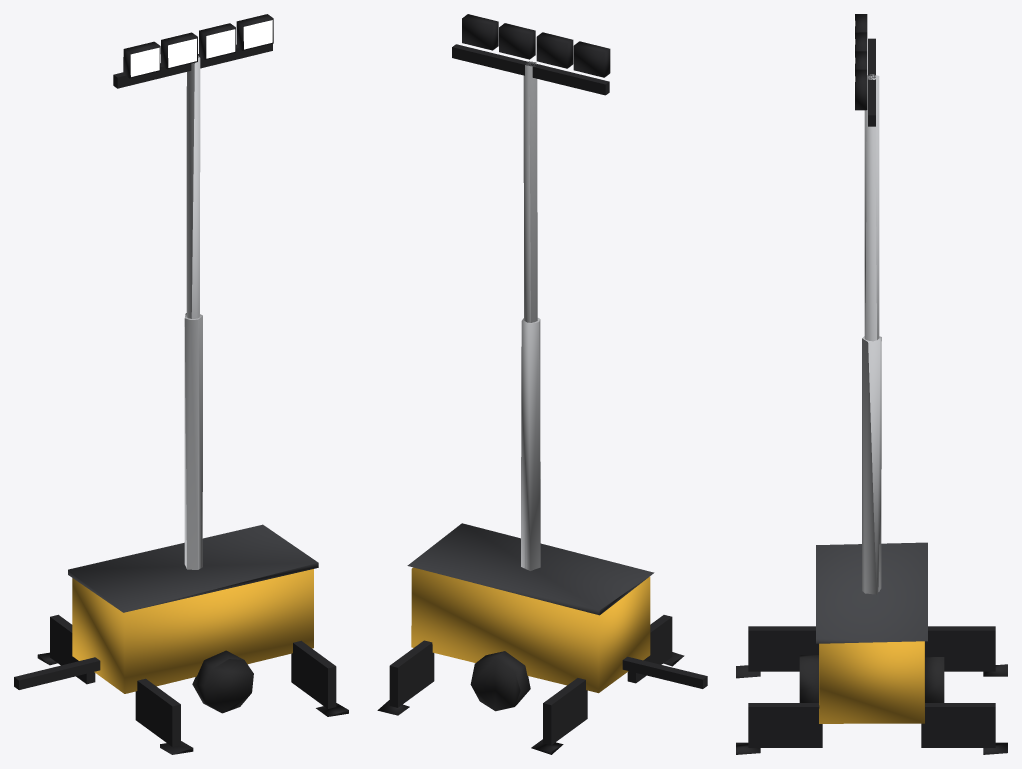
Rendered from light_tower_LOD1.glb.
3 views of the same model, side by side, from view 1: azimuth 30°, elevation 25°; view 2: azimuth 150°, elevation 25°; view 3: azimuth 270°, elevation 25° (orthographic). The views are drawn at different scales.
Parts seen in each view (by area): view 1: Body_LOD1; view 2: Body_LOD1; view 3: Body_LOD1.
Part boxes in pixels (x1,y1,x2,y2): Body_LOD1: (14,14,348,754); Body_LOD1: (377,14,707,754); Body_LOD1: (736,14,1007,754).
Bounding box in the file's own units: 3.88 × 8.87 × 3.3.
